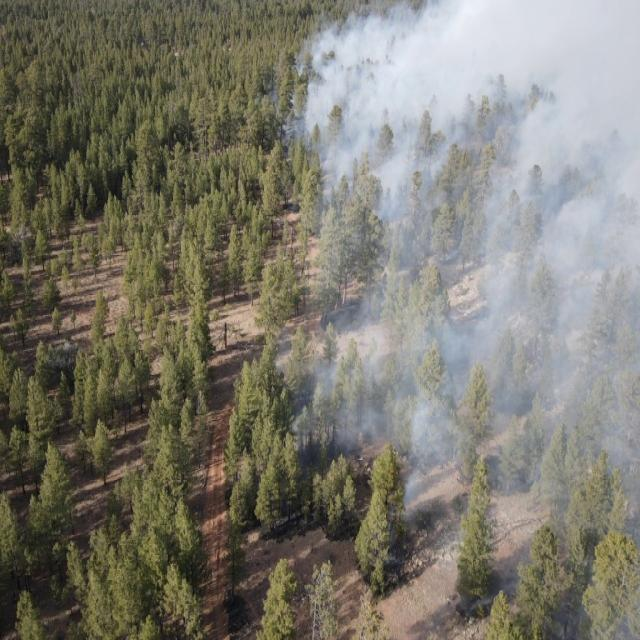smoke: (328, 173, 640, 407), (283, 0, 639, 174), (295, 404, 640, 514), (453, 514, 640, 640), (284, 292, 330, 406)
